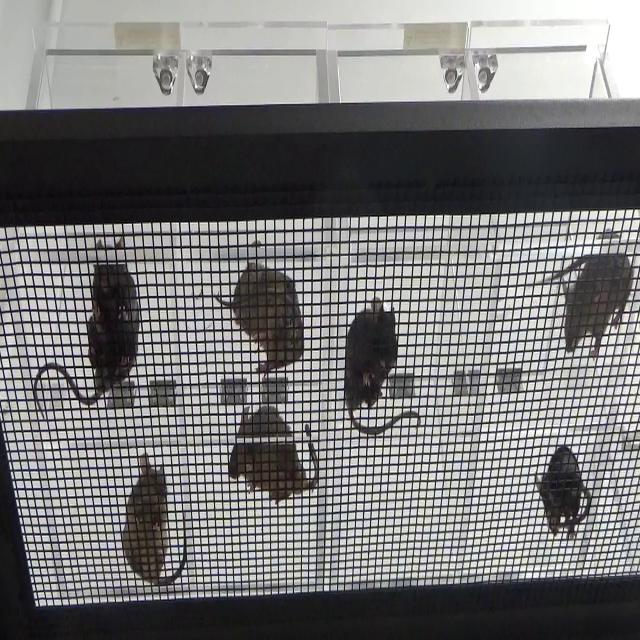lick claw: (339, 286, 426, 457)
